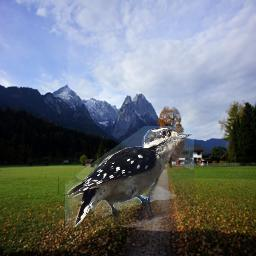Woodpecker: (65, 126, 194, 227)
